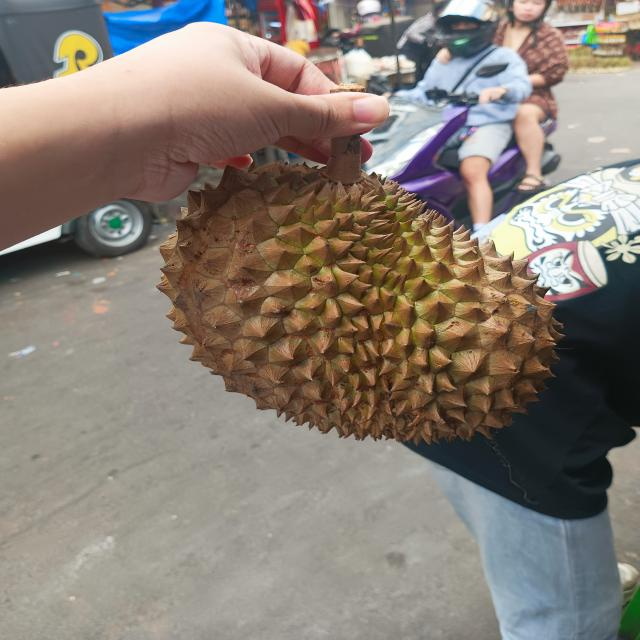mature: (153, 165, 563, 445)
